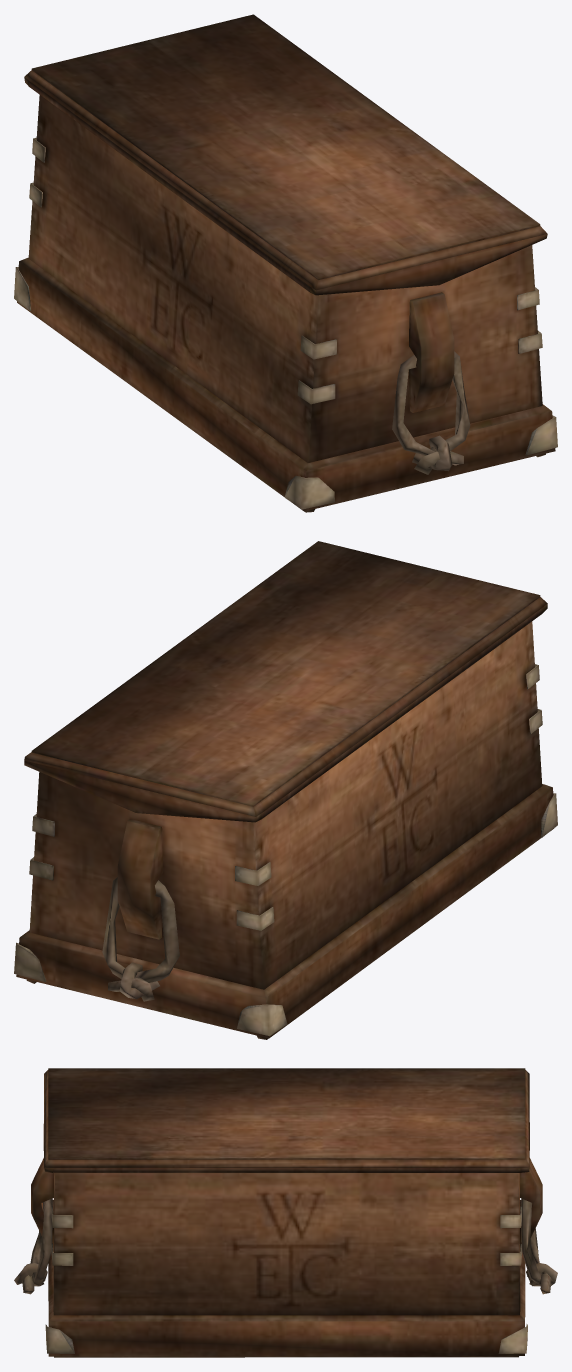
The model's file is crate_big.glb.
3 views of the same model, one above another, from view 1: azimuth 30°, elevation 25°; view 2: azimuth 150°, elevation 25°; view 3: azimuth 270°, elevation 25° (orthographic). The views are drawn at different scales.
Visible parts, largest first — view 1: crate_big; view 2: crate_big; view 3: crate_big.
Boxes of the visible parts, x1,y1,x2,y2 form: crate_big: (14,14,557,512); crate_big: (14,541,557,1039); crate_big: (14,1068,557,1357).
Size of the model in its own units: 0.529 by 0.4628 by 1.16.
1 material, 1 textured.
